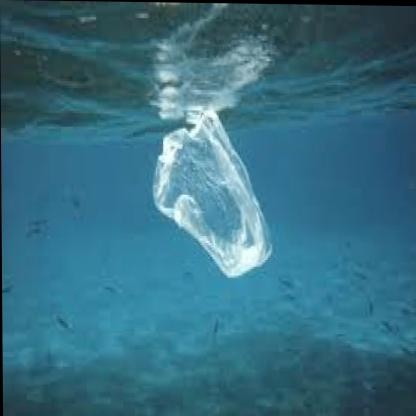trash: (153, 111, 271, 277)
